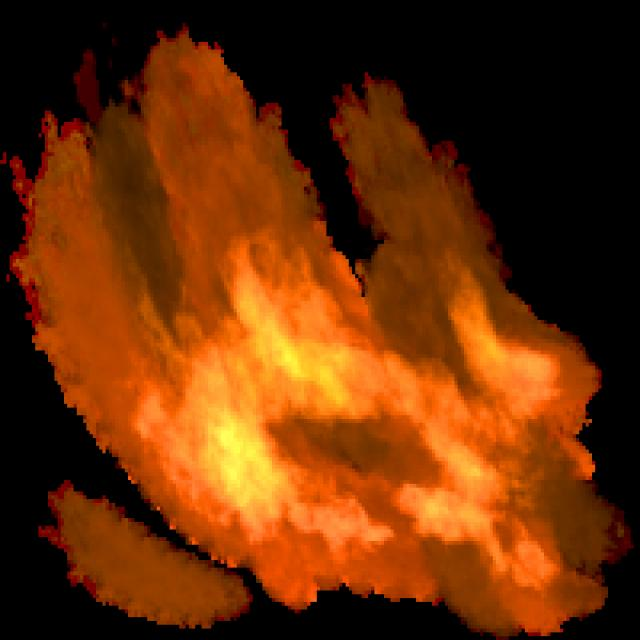fire: (0, 68, 640, 640)
